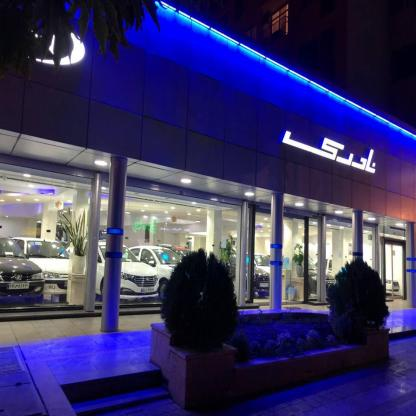Car: (80, 222, 154, 322), (22, 228, 84, 306), (135, 236, 188, 307), (0, 231, 42, 314), (218, 244, 272, 306)
